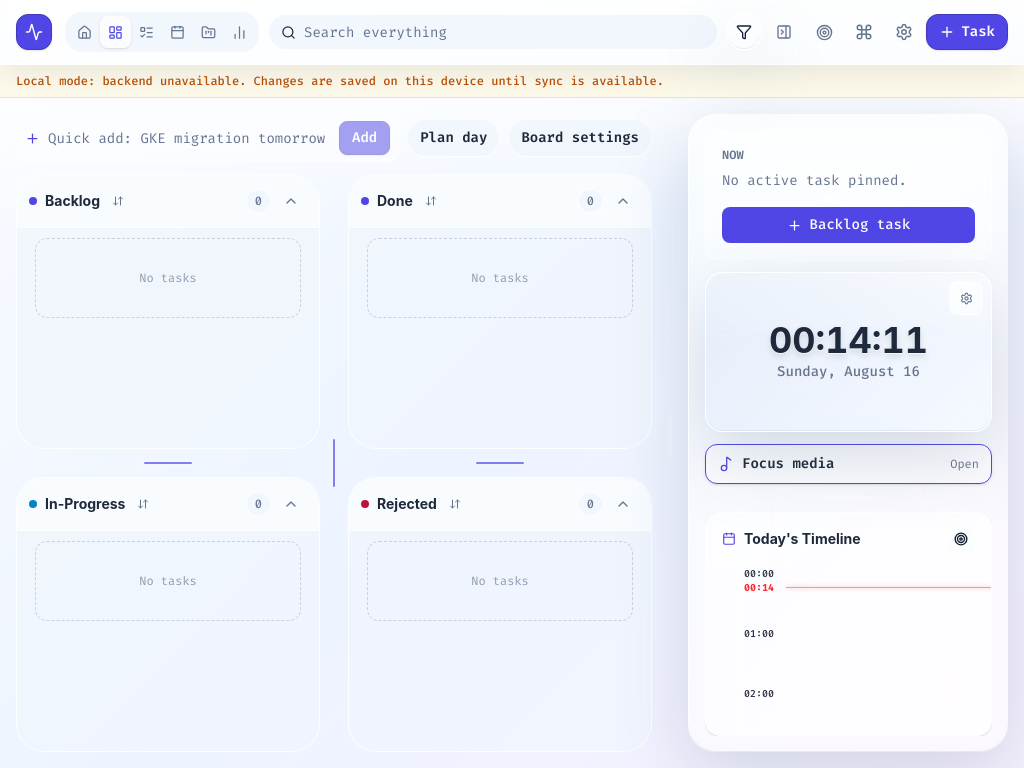
it: filters commands in the command palette
Type keys "{Control>}k{/Control}"
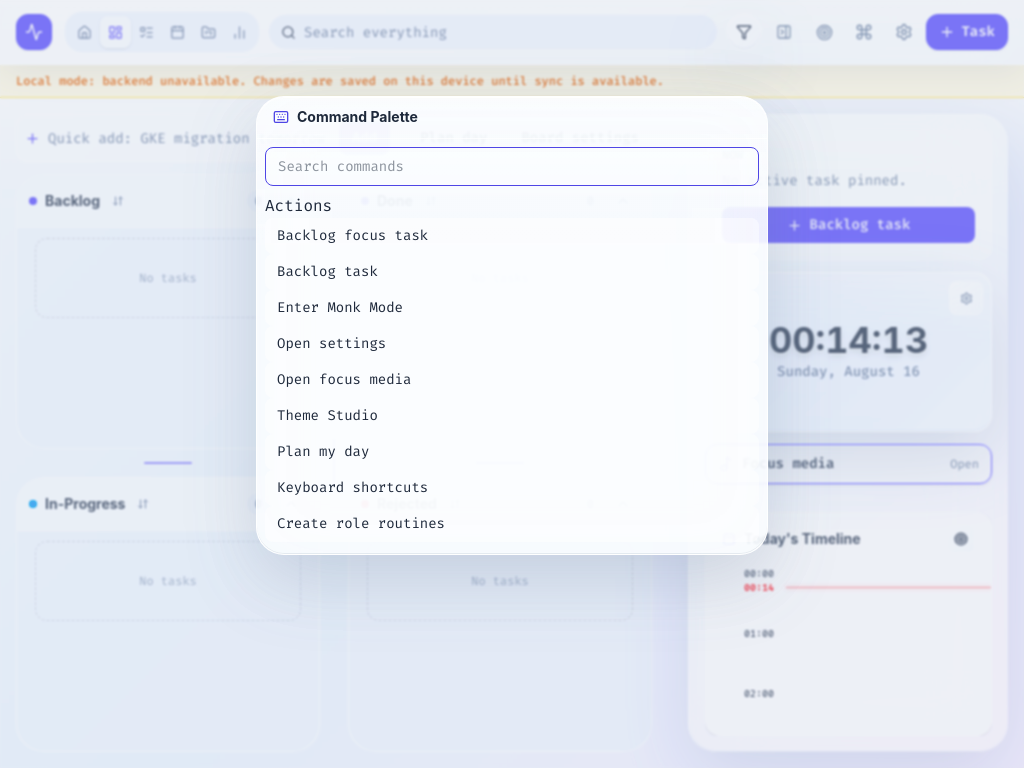
Type "analytics" into the dropdown with placeholder "Search commands" at (512, 166), box top-left (265, 147), bottom-right (759, 186)
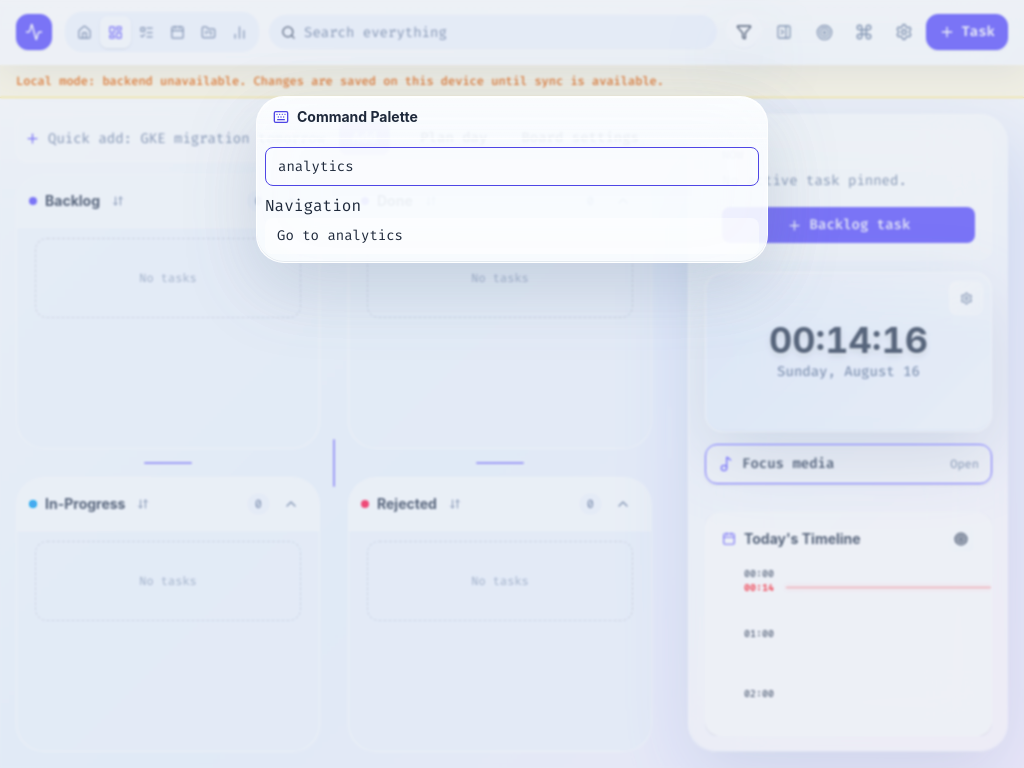
Expected: the option "Go to analytics" is shown, top-left (265, 218), bottom-right (759, 254)
